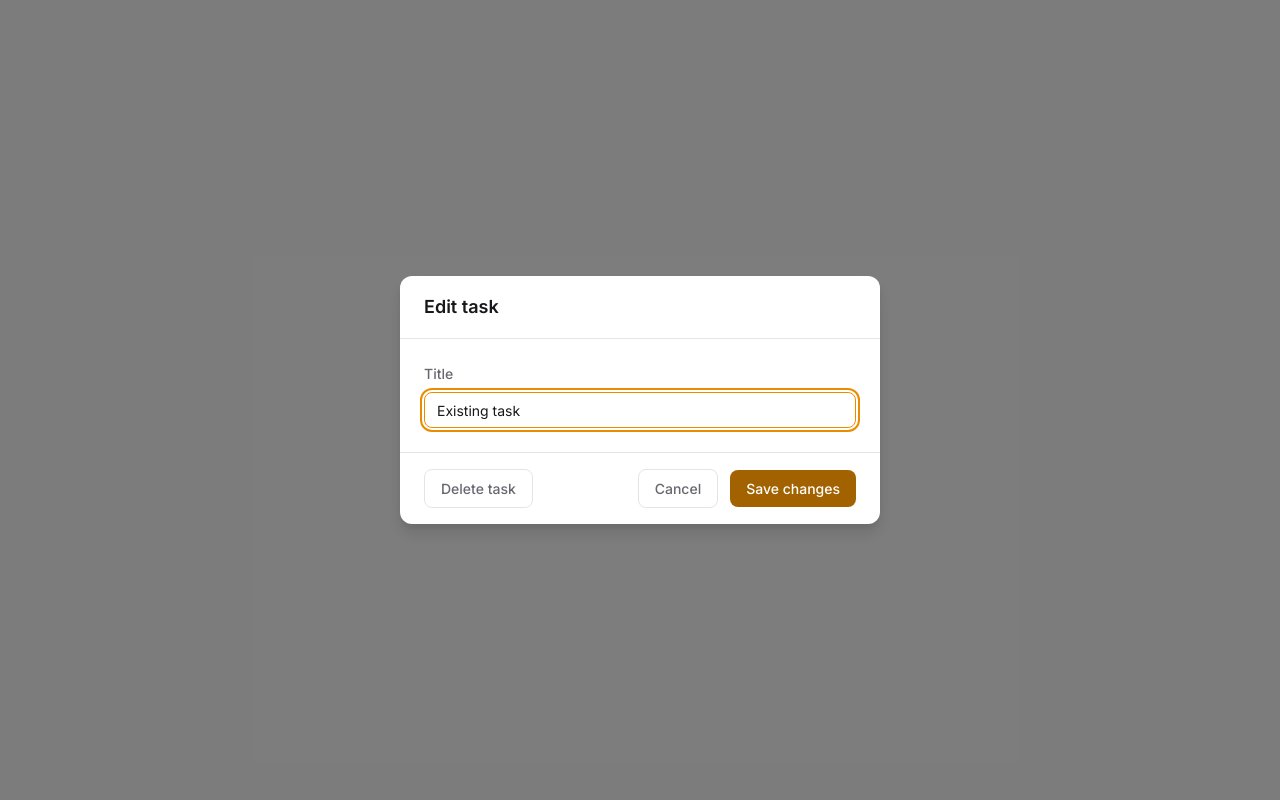
Test: TaskModal DeleteButton › should show the returned error below the button and stay in confirming state on failure
Click the button "Delete task" at (478, 489), box [424,469,533,508]
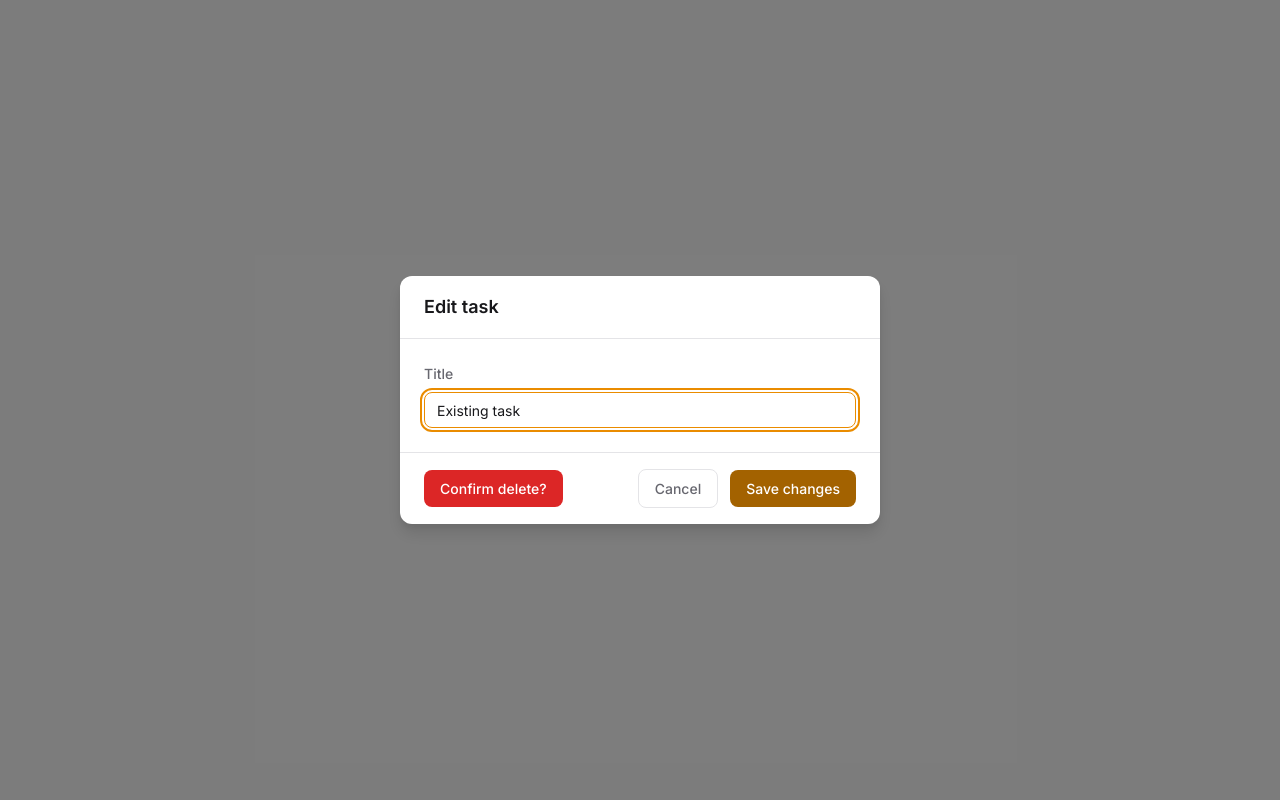
Click the button "Confirm delete?" at (493, 489), box [424,470,563,507]
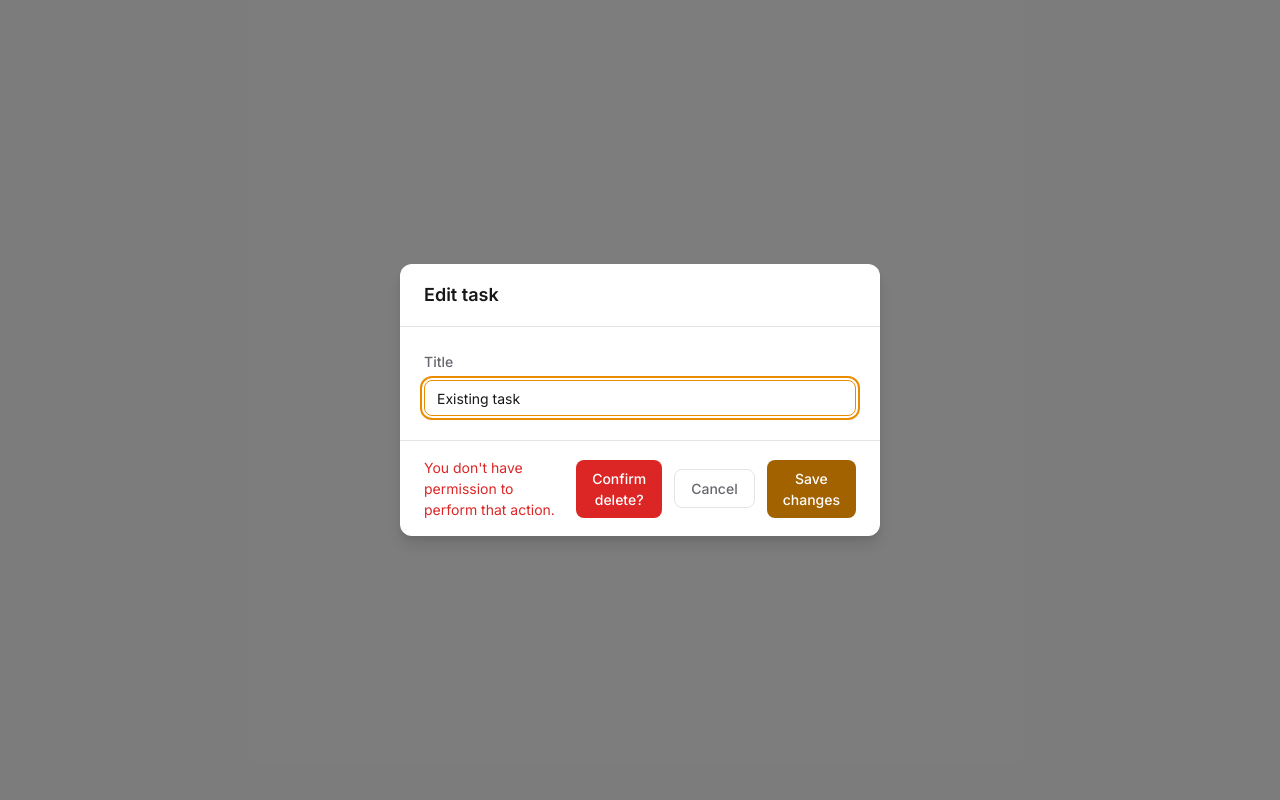
Now the button "Confirm delete?" is shown, box [576,460,662,518]
Now the message reads "You don't have permission to perform that action.", box [424,459,555,518]
